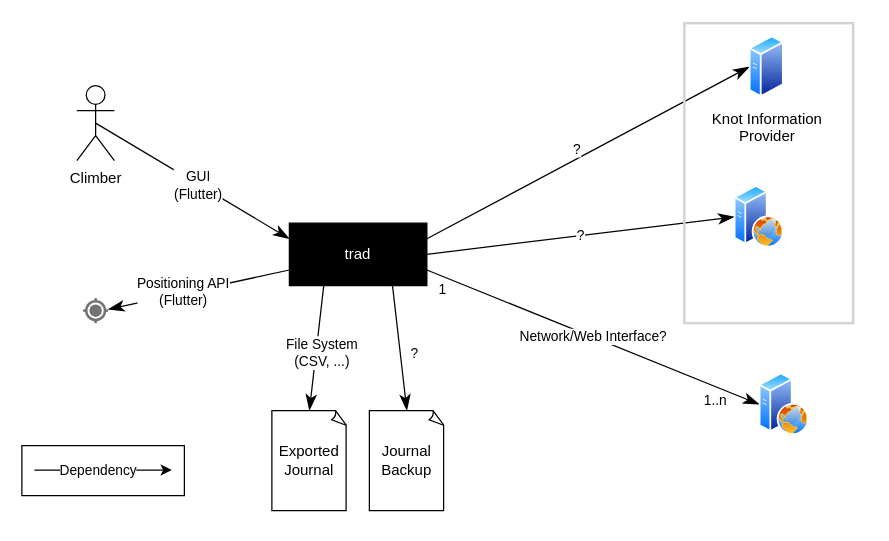
The diagram is 889 pixels wide and 541 high, and some of its shapes have lost their labels. The shapes that lost their labels are listed below. From the top down, each one's centre as x and y in pixels, then its label:
point 759,216: Regulations Provider (SBB)
point 95,310: GNSS
point 784,403: Route Data Provider: - teufelsturm.de - db-sandsteinklettern.de - ...
